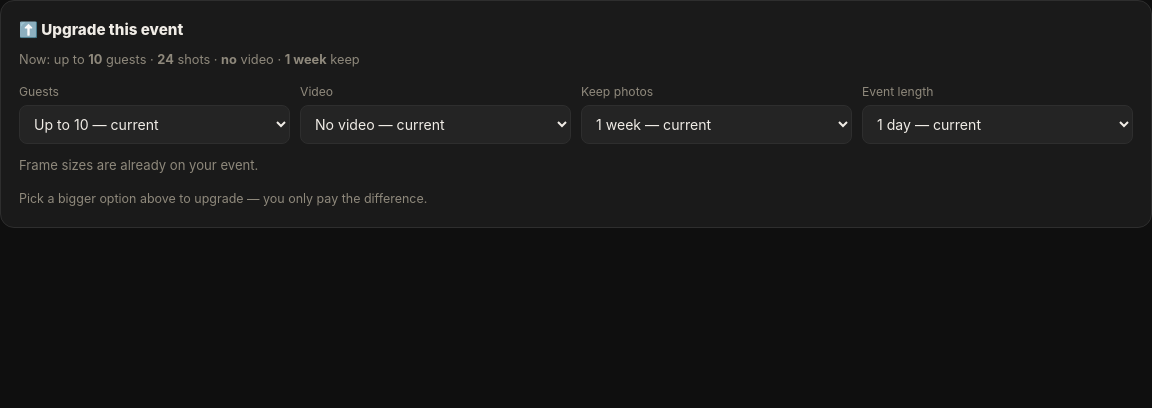
Scenario: the upgrade breakdown tells a host what they already have › says the event pass is already yours when the guest tier is untouched
This screenshot has width=1152, height=408.
Select "10s clips — free (normally +$5.00)" in the dropdown labelled "Video": (436, 125) [300, 105, 571, 144]
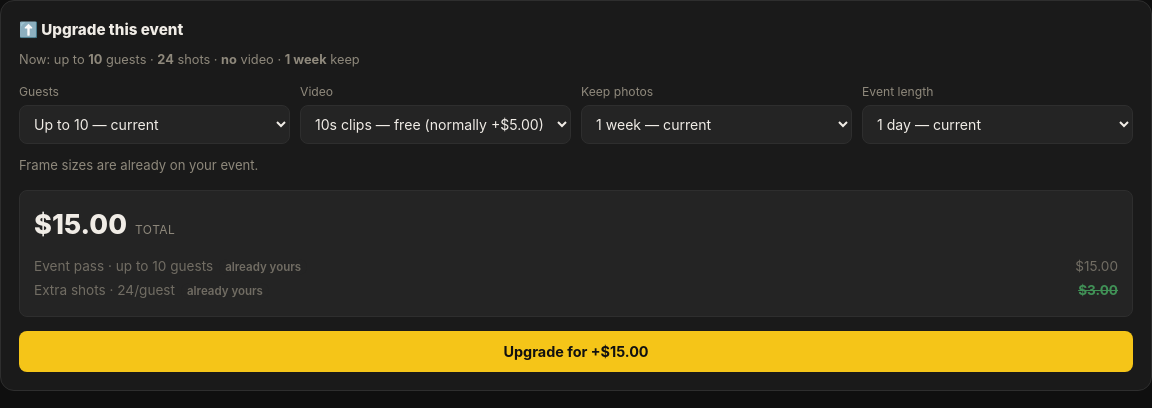
Now the list item "Event pass · up to 10 guestsalready yours $15.00" is shown, box [34, 254, 1118, 278]
